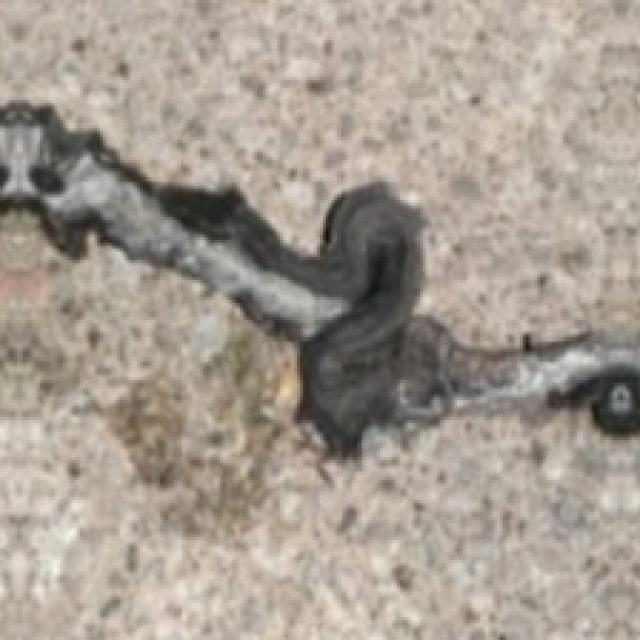reticulated python: (161, 182, 421, 452)
